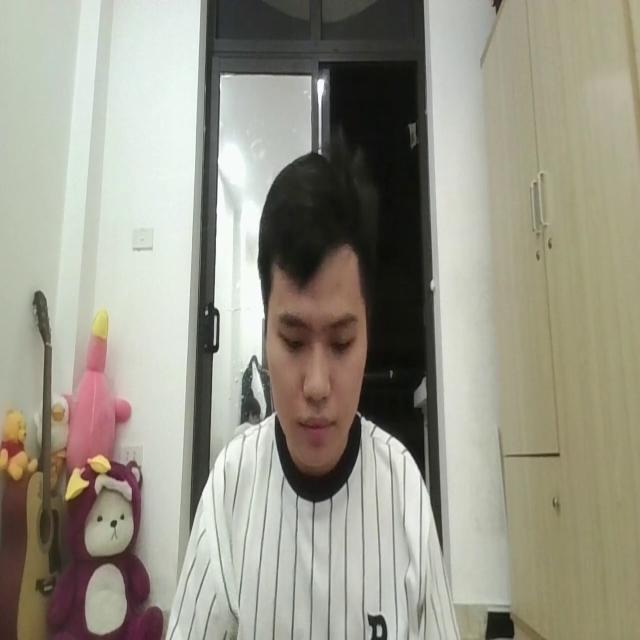student: (165, 150, 466, 640)
